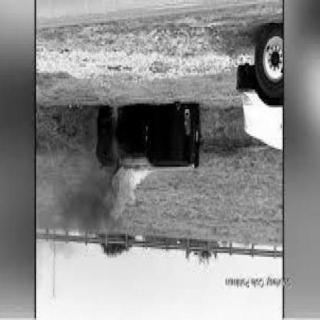Fire: (114, 165, 147, 227)
Smoke: (114, 165, 147, 228), (74, 207, 108, 247)
